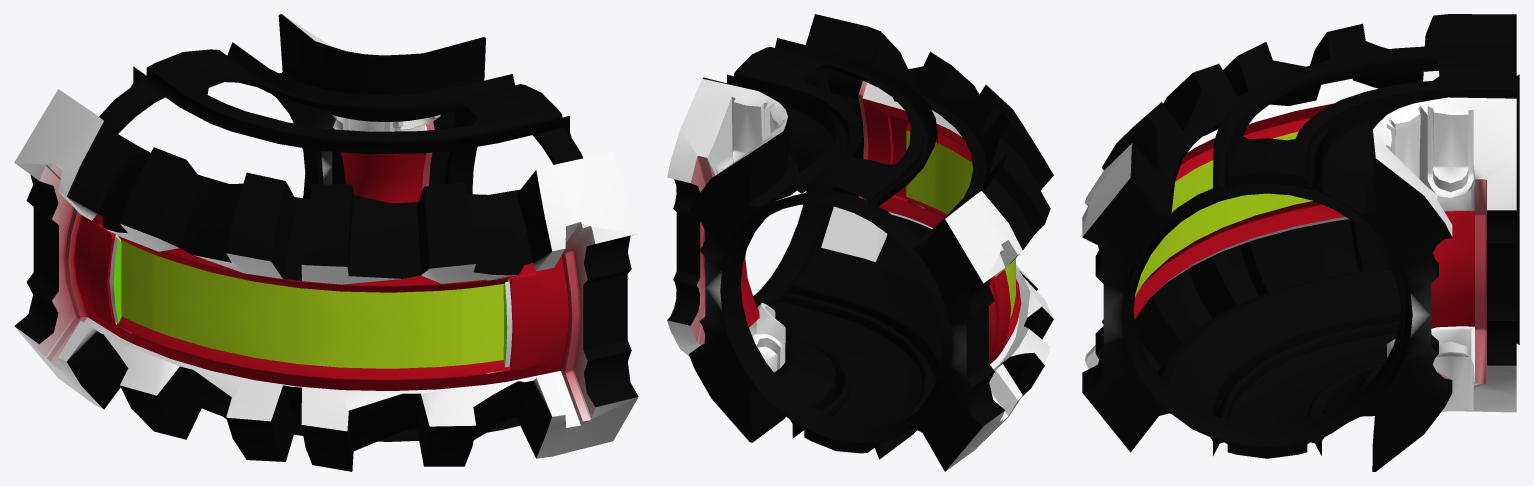
Rendered from part_main-lod0.dae.
3 views of the same model, side by side, from view 1: azimuth 30°, elevation 25°; view 2: azimuth 150°, elevation 25°; view 3: azimuth 270°, elevation 25° (orthographic). The views are drawn at different scales.
Visible parts, largest first — view 1: part_main-lod0Xlod0Xp2genericXgen_p2_hulltextureaged_02, part_main-lod0Xlod0Xp2genericXgen_p2_hulltexture_02_c, part_main-lod0Xlod0Xp2genericXgen_p2_hullpattern_01, part_main-lod0Xlod0Xp2multimatXp2_multimat_01; view 2: part_main-lod0Xlod0Xp2genericXgen_p2_hulltextureaged_02, part_main-lod0Xlod0Xp2genericXgen_p2_hullpattern_01, part_main-lod0Xlod0Xp2genericXgen_p2_hulltexture_02_c, part_main-lod0Xlod0Xp2multimatXp2_multimat_01; view 3: part_main-lod0Xlod0Xp2genericXgen_p2_hulltextureaged_02, part_main-lod0Xlod0Xp2genericXgen_p2_hullpattern_01, part_main-lod0Xlod0Xp2genericXgen_p2_hulltexture_02_c, part_main-lod0Xlod0Xp2multimatXp2_multimat_01.
Boxes of the visible parts, bbox=[...] form: part_main-lod0Xlod0Xp2genericXgen_p2_hulltextureaged_02: bbox=[14, 14, 638, 471]; part_main-lod0Xlod0Xp2genericXgen_p2_hulltexture_02_c: bbox=[147, 49, 561, 379]; part_main-lod0Xlod0Xp2genericXgen_p2_hullpattern_01: bbox=[14, 14, 638, 458]; part_main-lod0Xlod0Xp2multimatXp2_multimat_01: bbox=[75, 152, 566, 389]; part_main-lod0Xlod0Xp2genericXgen_p2_hulltextureaged_02: bbox=[667, 31, 1053, 459]; part_main-lod0Xlod0Xp2genericXgen_p2_hullpattern_01: bbox=[667, 14, 1053, 471]; part_main-lod0Xlod0Xp2genericXgen_p2_hulltexture_02_c: bbox=[727, 47, 1021, 424]; part_main-lod0Xlod0Xp2multimatXp2_multimat_01: bbox=[741, 101, 1011, 363]; part_main-lod0Xlod0Xp2genericXgen_p2_hulltextureaged_02: bbox=[1082, 17, 1519, 470]; part_main-lod0Xlod0Xp2genericXgen_p2_hullpattern_01: bbox=[1082, 14, 1516, 471]; part_main-lod0Xlod0Xp2genericXgen_p2_hulltexture_02_c: bbox=[1142, 55, 1516, 454]; part_main-lod0Xlod0Xp2multimatXp2_multimat_01: bbox=[1133, 106, 1471, 327].
Bounding box in the file's own units: 28.08 × 22.22 × 28.08.
